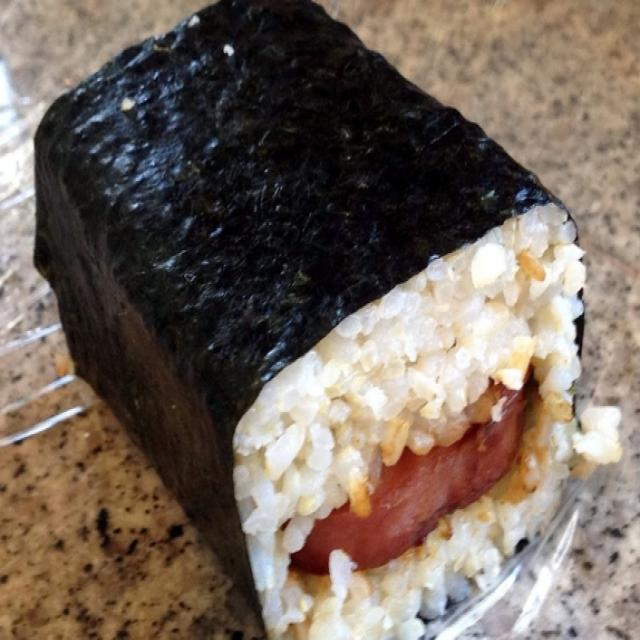寿司卷物: (16, 23, 610, 618)
